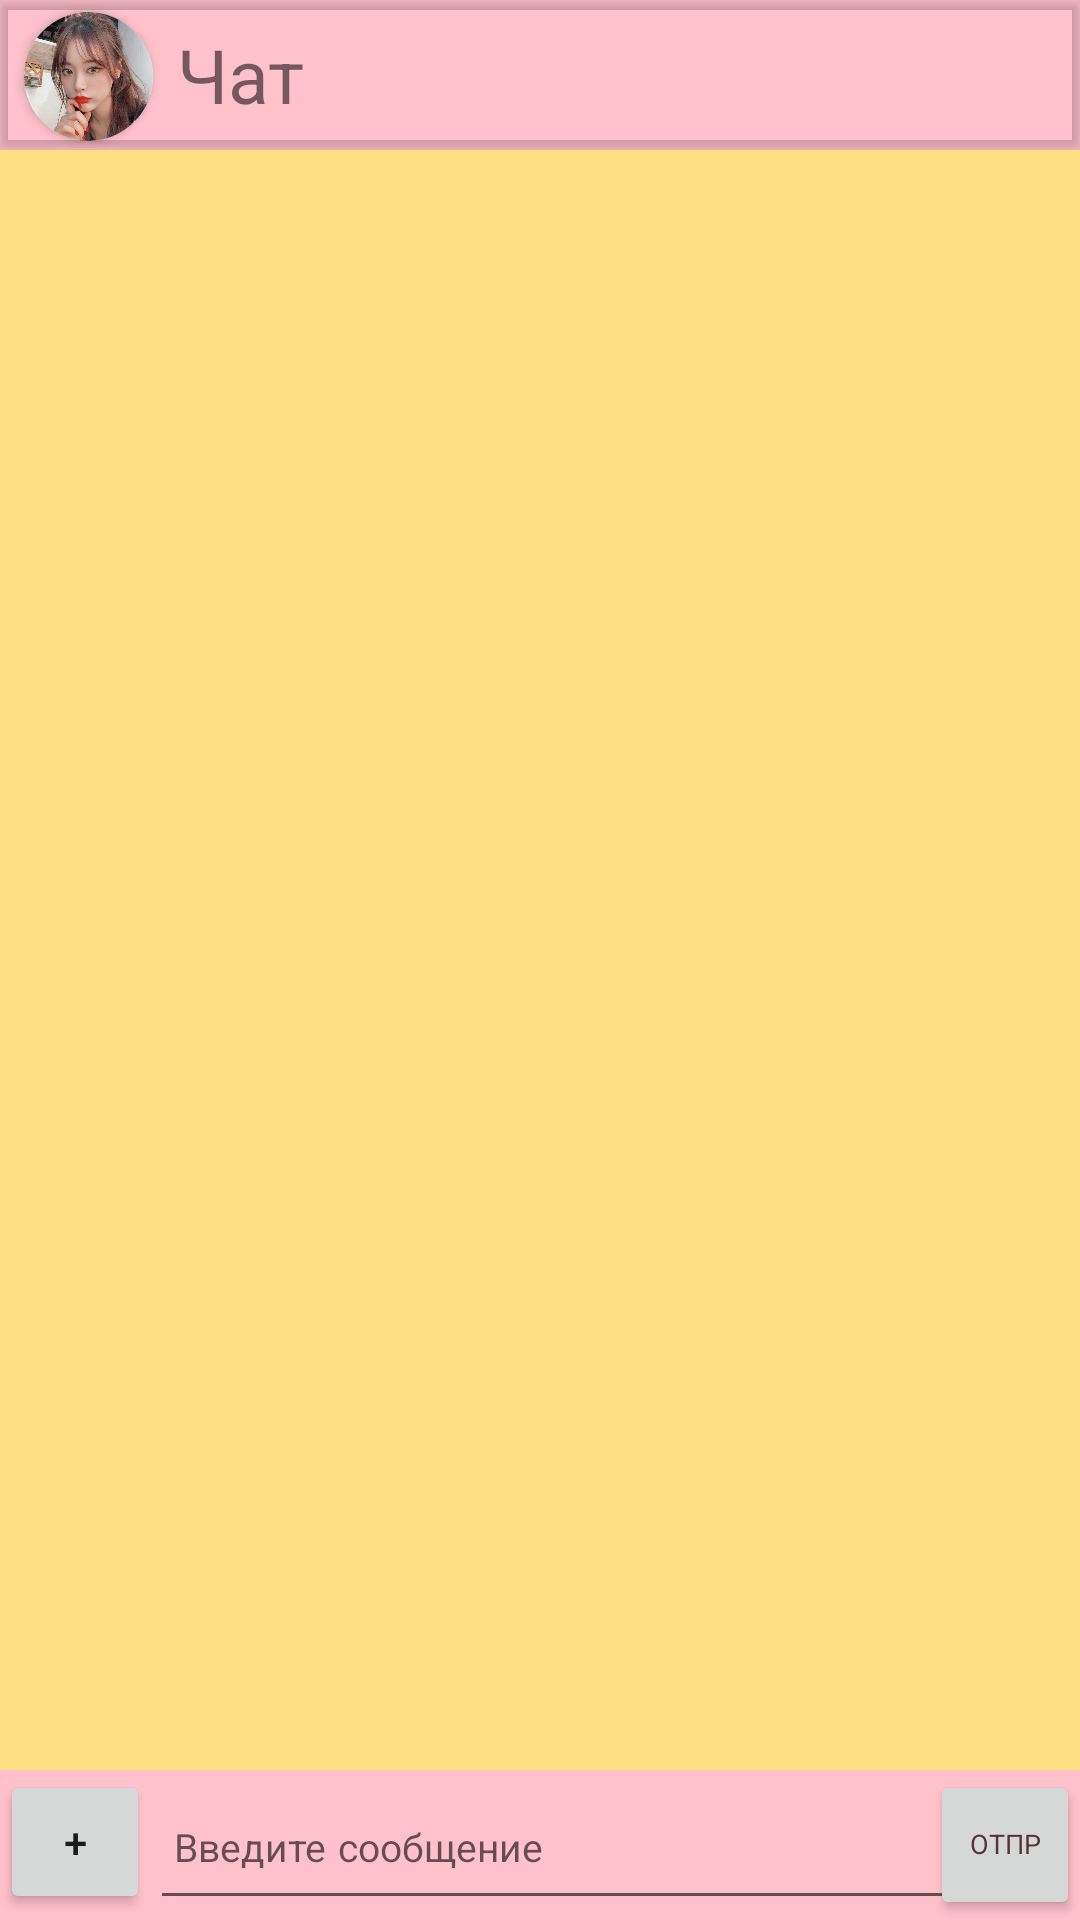

Screen size 1080 × 1920. Icon name, then its center in pixels as (x=x, y=y):
example photo friend: (x=88, y=76)
